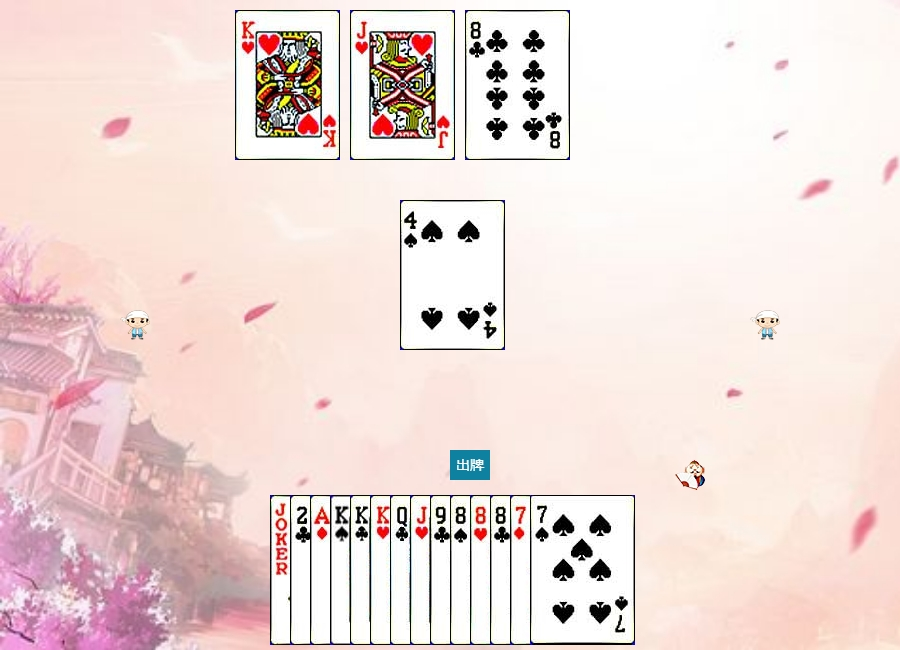11~3: (350, 10, 455, 160), (410, 495, 515, 645)
12~2: (390, 495, 495, 645)
13~2: (350, 495, 455, 645)
13~3: (235, 10, 340, 160), (370, 495, 475, 645)
13~4: (330, 495, 435, 645)
14~1: (310, 495, 415, 645)
15~2: (290, 495, 395, 645)
18~4: (270, 495, 375, 645)
4~4: (400, 200, 505, 350)
7~1: (510, 495, 615, 645)
7~4: (530, 495, 635, 645)
8~2: (465, 10, 570, 160), (490, 495, 595, 645)
8~3: (470, 495, 575, 645)
8~4: (450, 495, 555, 645)
9~2: (430, 495, 535, 645)
